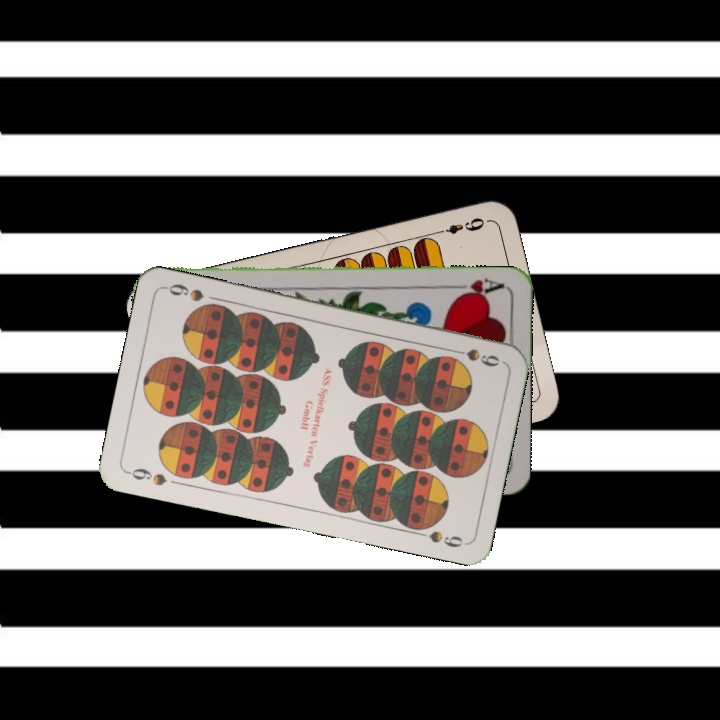E9: (431, 213, 487, 237)
HA: (447, 274, 506, 300)
S9: (445, 344, 502, 370), (123, 464, 170, 489)
